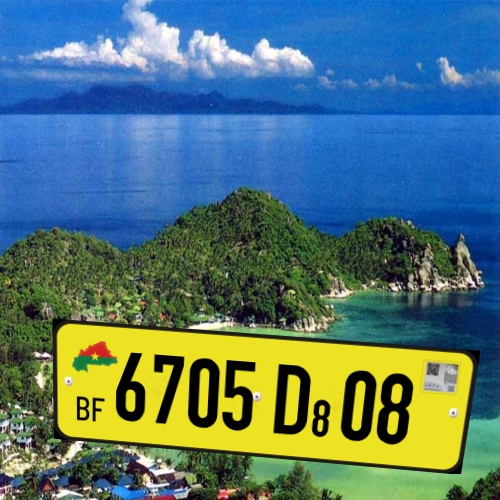plate: (42, 307, 484, 479)
